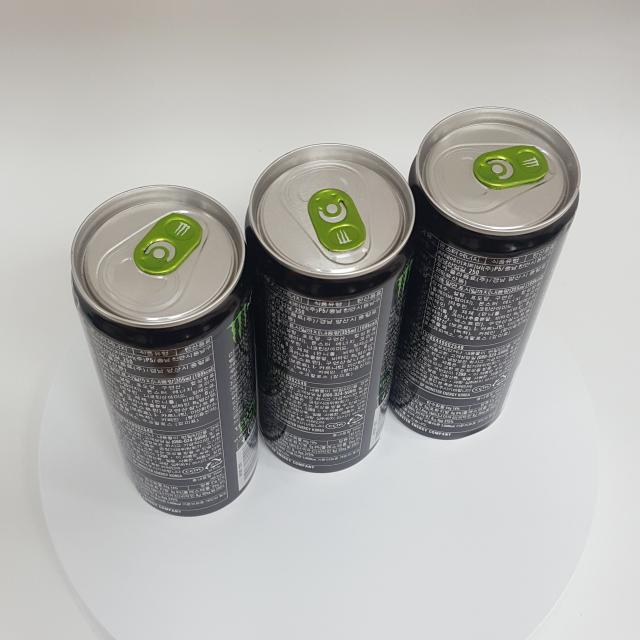--------355ML: (384, 106, 581, 440), (70, 183, 259, 518), (243, 142, 416, 474)
